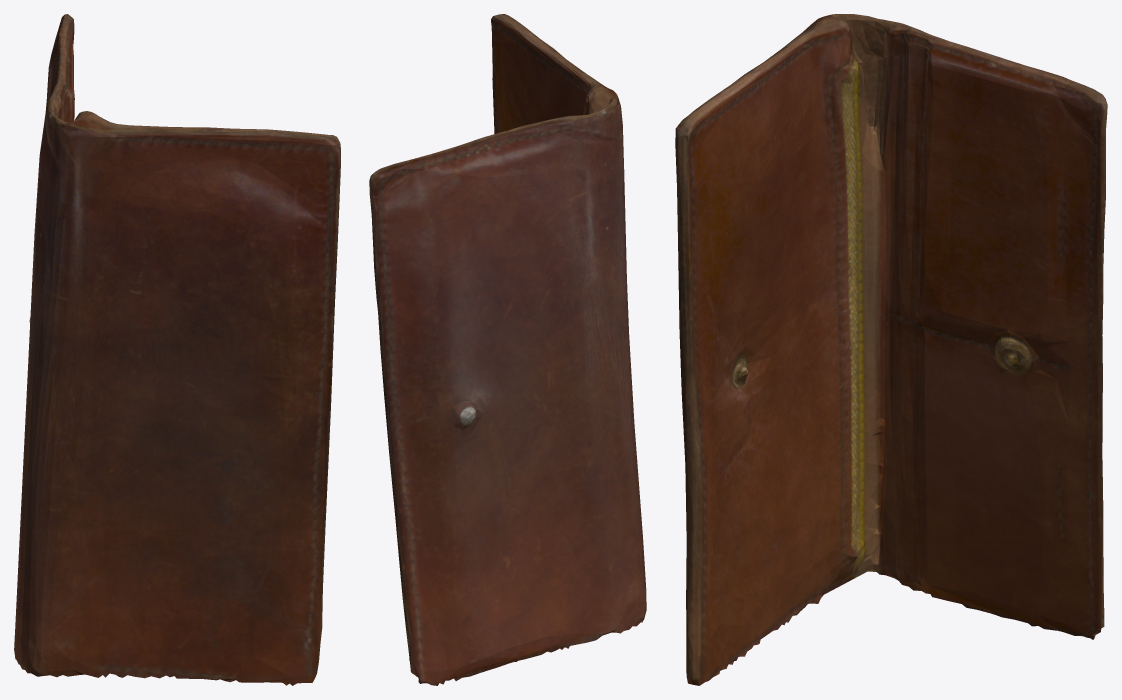
3 renders of one model, left to right at view 1: azimuth 30°, elevation 25°; view 2: azimuth 150°, elevation 25°; view 3: azimuth 270°, elevation 25°, orthographic. The views are drawn at different scales.
Visible parts, largest first — view 1: Ledergeldbeutel_3k_2k; view 2: Ledergeldbeutel_3k_2k; view 3: Ledergeldbeutel_3k_2k.
Part boxes in pixels (x1,y1,x2,y2): Ledergeldbeutel_3k_2k: (14, 14, 340, 685); Ledergeldbeutel_3k_2k: (369, 14, 646, 685); Ledergeldbeutel_3k_2k: (675, 14, 1107, 685).
Bounding box in the file's own units: 0.0888 × 0.2003 × 0.1329.
1 material, 1 textured.
